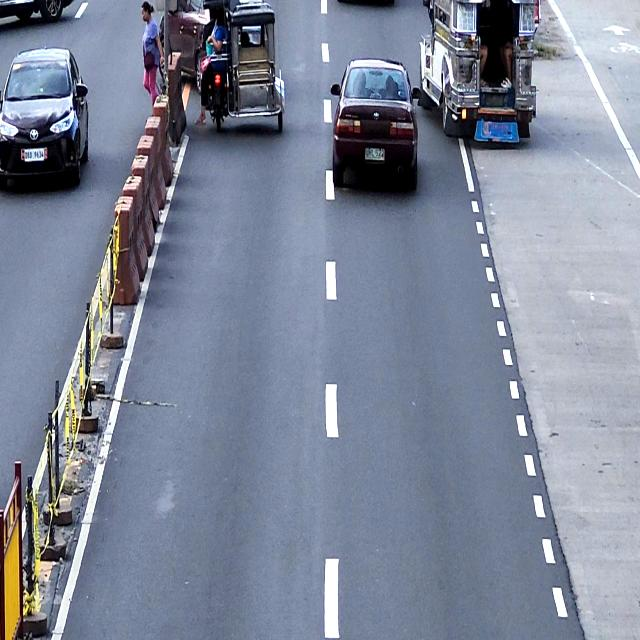Car: (0, 46, 89, 187), (331, 58, 418, 190), (158, 0, 217, 89)
License-Plate: (23, 148, 45, 162), (364, 148, 385, 162), (484, 92, 505, 106)
Tricycle: (200, 0, 285, 133)
Truck: (418, 0, 541, 142)
